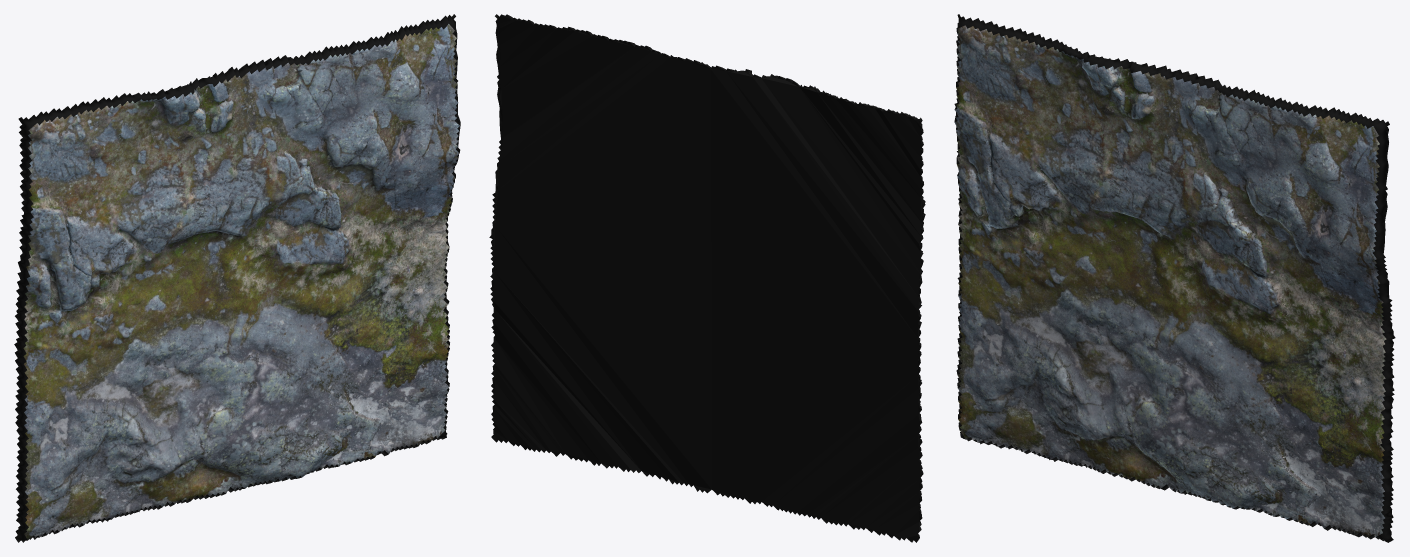
Rendered from Rock_terrain.obj.
The picture shows the model from 3 angles, left to right: view 1: azimuth 30°, elevation 25°; view 2: azimuth 150°, elevation 25°; view 3: azimuth 330°, elevation 25°; orthographic projection.
Visible parts, largest first — view 1: Rock_terrain_retopo; view 2: Rock_terrain_retopo; view 3: Rock_terrain_retopo.
Boxes of the visible parts, x1,y1,x2,y2 form: Rock_terrain_retopo: (14, 14, 460, 542); Rock_terrain_retopo: (489, 14, 925, 542); Rock_terrain_retopo: (954, 14, 1395, 542).
Bounding box in the file's own units: 48.9 × 46.13 × 3.47.
Materials: 2 (1 with a texture image).
